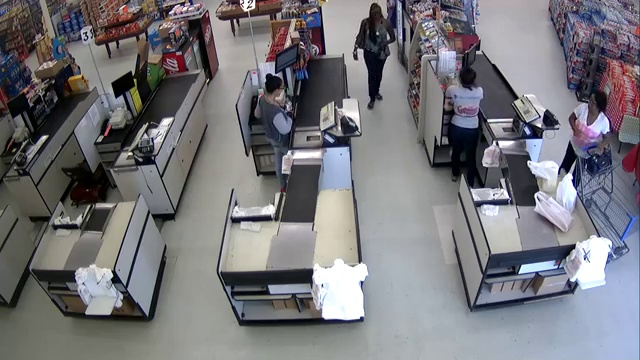face: (588, 97, 601, 113), (371, 7, 382, 19)
